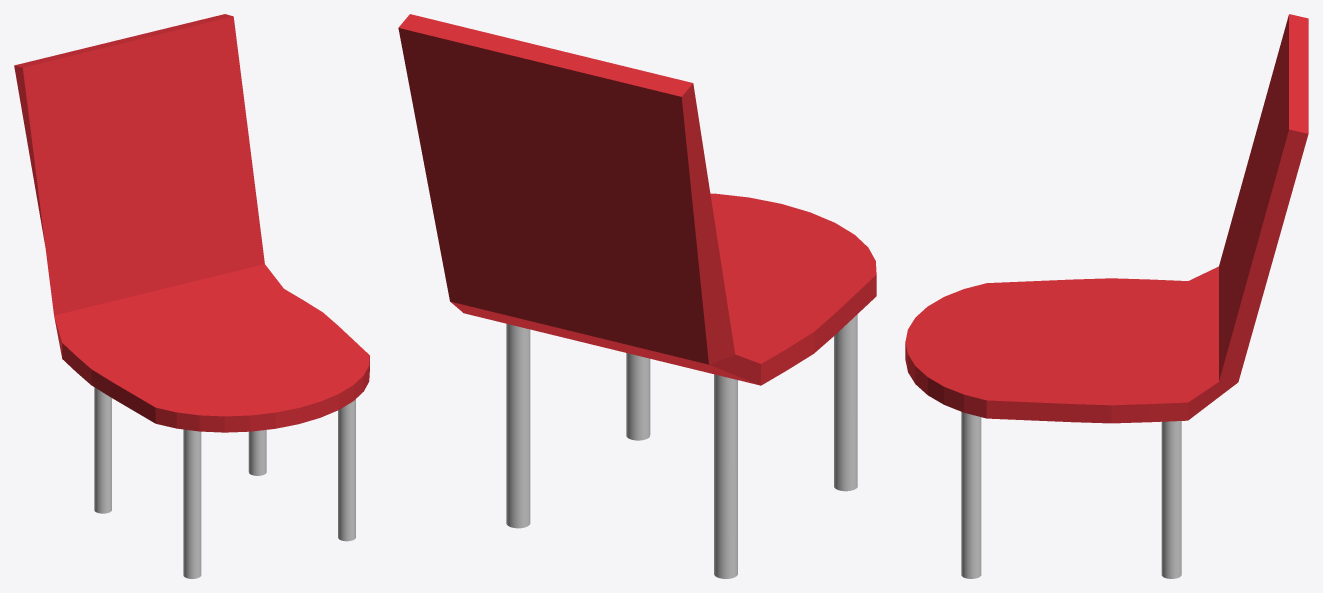
Rendered from chair2.fbx.
3 views of the same model, side by side, from view 1: azimuth 30°, elevation 25°; view 2: azimuth 150°, elevation 25°; view 3: azimuth 270°, elevation 25° (orthographic). The views are drawn at different scales.
Visible parts, largest first — view 1: Cylinder, Cylinder.002, Cylinder.001, Cylinder.004, Cylinder.003; view 2: Cylinder, Cylinder.003, Cylinder.004, Cylinder.002, Cylinder.001; view 3: Cylinder, Cylinder.001, Cylinder.003.
Part boxes in pixels (bbox=[...]): Cylinder: bbox=[14, 14, 369, 432]; Cylinder.002: bbox=[183, 429, 201, 578]; Cylinder.001: bbox=[338, 399, 355, 541]; Cylinder.004: bbox=[94, 387, 111, 513]; Cylinder.003: bbox=[248, 430, 266, 475]; Cylinder: bbox=[398, 14, 876, 385]; Cylinder.003: bbox=[506, 323, 530, 528]; Cylinder.004: bbox=[714, 374, 737, 578]; Cylinder.002: bbox=[834, 314, 857, 491]; Cylinder.001: bbox=[626, 353, 650, 440]; Cylinder: bbox=[905, 14, 1308, 423]; Cylinder.001: bbox=[961, 412, 981, 578]; Cylinder.003: bbox=[1161, 421, 1181, 578].
Size of the model in its own units: 150 by 254 by 201.
